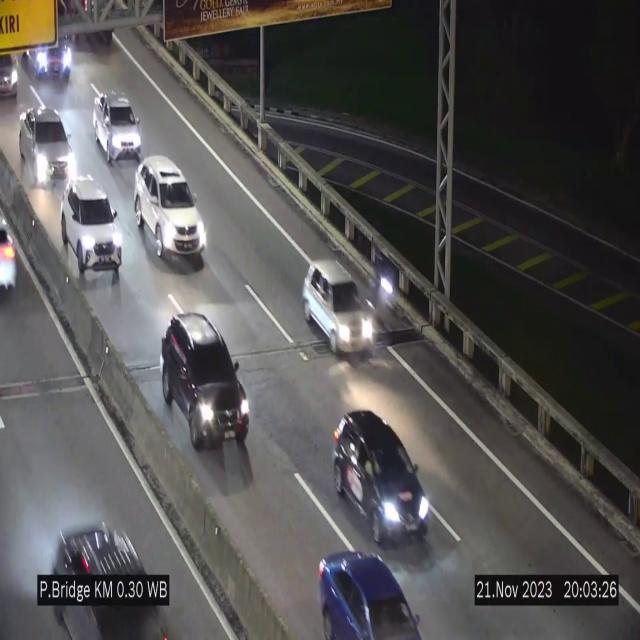Car: (39, 502, 182, 640), (331, 404, 427, 548), (160, 314, 250, 450), (310, 534, 424, 640), (134, 156, 206, 264), (302, 260, 378, 355), (57, 175, 124, 279), (17, 100, 78, 188), (24, 17, 74, 88), (94, 91, 142, 163), (0, 36, 22, 96)
Motorcycle: (373, 248, 397, 328)
